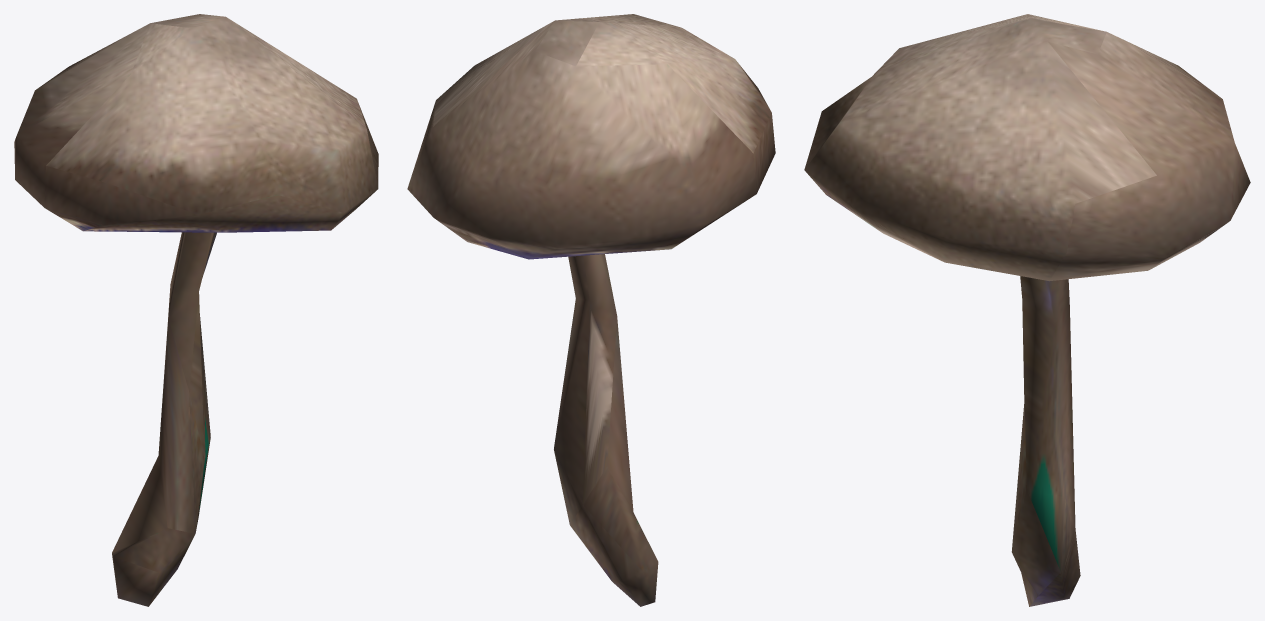
The model's file is fungus-tan-b.gltf.
The picture shows the model from 3 angles, left to right: view 1: azimuth 30°, elevation 25°; view 2: azimuth 150°, elevation 25°; view 3: azimuth 270°, elevation 25°; orthographic projection. The views are drawn at different scales.
Parts seen in each view (by area): view 1: fungus-tan-b; view 2: fungus-tan-b; view 3: fungus-tan-b.
Part boxes in pixels (bbox=[...]): fungus-tan-b: bbox=[14, 14, 378, 606]; fungus-tan-b: bbox=[407, 14, 775, 606]; fungus-tan-b: bbox=[804, 14, 1250, 606].
Bounding box in the file's own units: 0.2222 × 0.3845 × 0.2536.
Materials: 1 (1 with a texture image).
